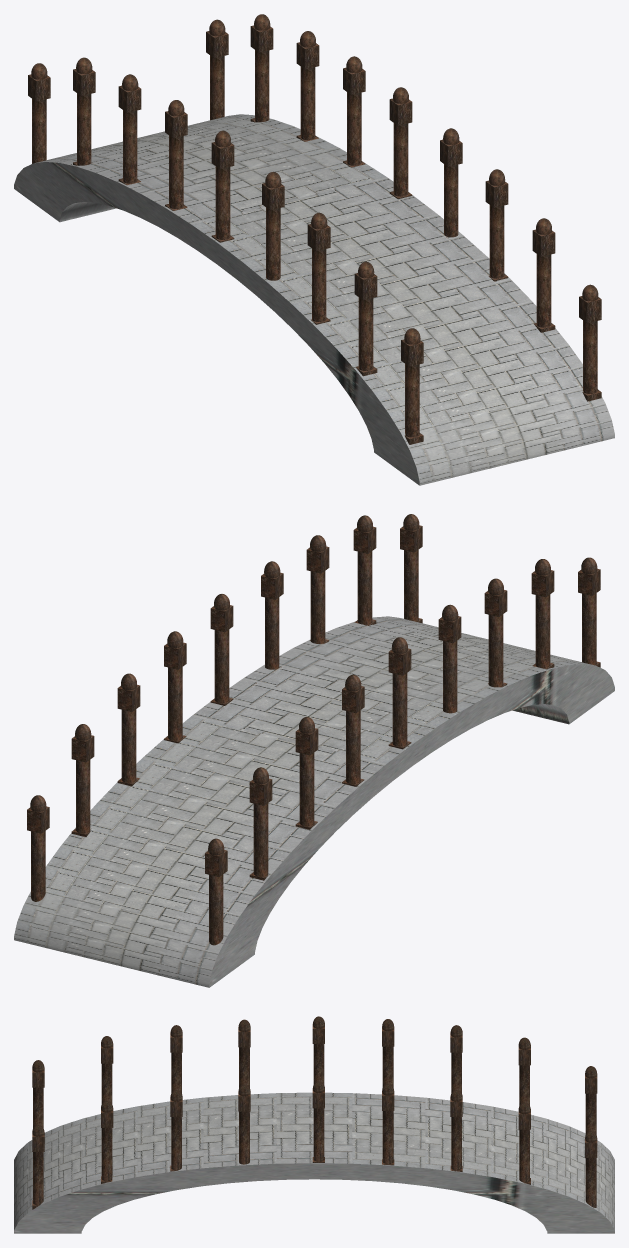
File: bro.fbx
3 renders of one model, top to bottom at view 1: azimuth 30°, elevation 25°; view 2: azimuth 150°, elevation 25°; view 3: azimuth 270°, elevation 25°, orthographic. The views are drawn at different scales.
Visible parts, largest first — view 1: pasted__pCylinder5, pasted__group9_pasted__pCylinder7; view 2: pasted__pCylinder5, pasted__group9_pasted__pCylinder7; view 3: pasted__pCylinder5, pasted__group9_pasted__pCylinder7.
Boxes of the visible parts, x1,y1,x2,y2 form: pasted__pCylinder5: [14, 114, 614, 485]; pasted__group9_pasted__pCylinder7: [28, 14, 601, 444]; pasted__pCylinder5: [14, 616, 614, 987]; pasted__group9_pasted__pCylinder7: [27, 514, 600, 945]; pasted__pCylinder5: [14, 1092, 614, 1233]; pasted__group9_pasted__pCylinder7: [32, 1016, 597, 1209].
Size of the model in its own units: 6.24 by 6.15 by 22.42.
Materials: 2 (2 with a texture image).
